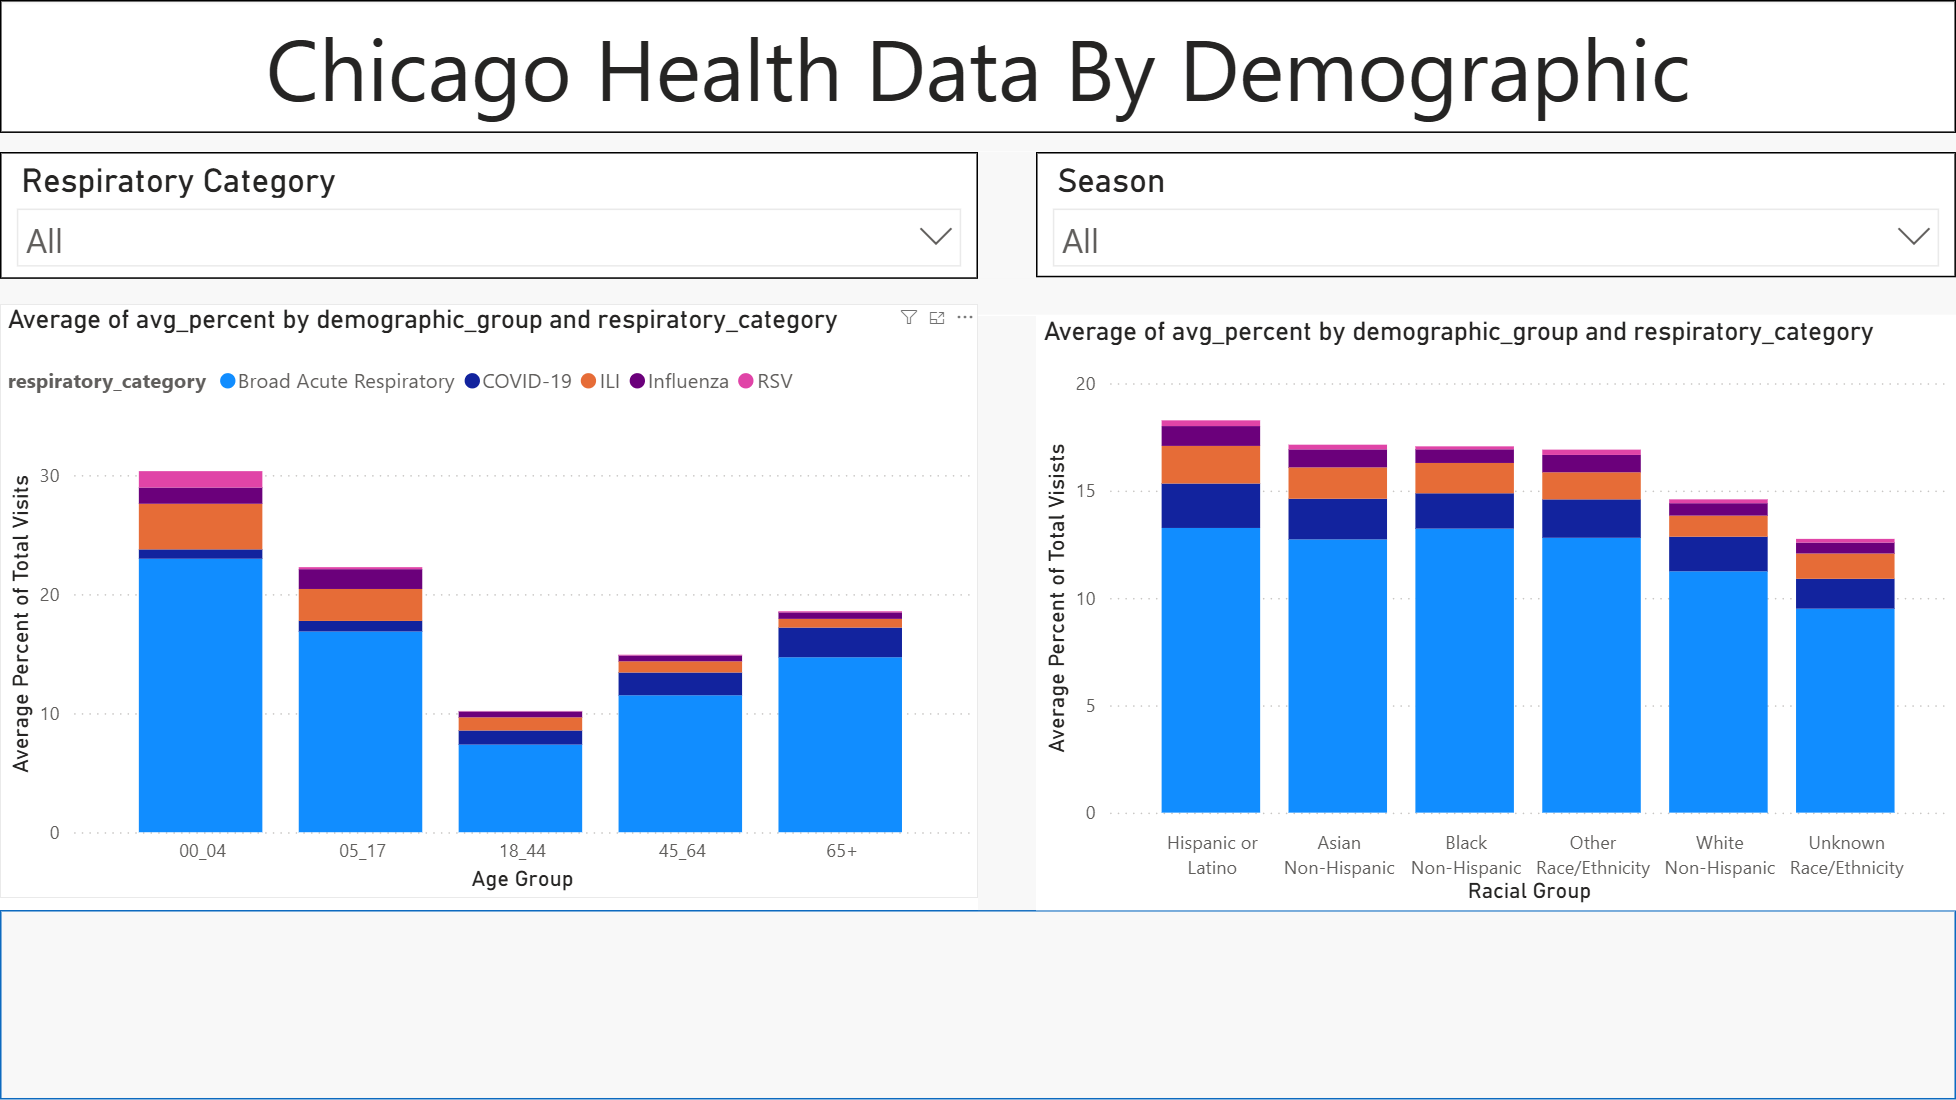

What the dashboard file says about the page in this screenshot:
{"tool":"powerbi","page":{"name":"Demograph Trends","canvas":[1280,720],"ordinal":1},"visuals":[{"type":"textbox","box":[0,0,1280,87.3],"z":0},{"type":"shape","box":[0,595.6,1280,124],"z":1},{"type":"shape","box":[0,182.2,1280,24.5],"z":2},{"type":"shape","box":[0,87.3,1280,12.2],"z":3},{"type":"shape","box":[640,206.7,38.3,388.9],"z":4},{"type":"shape","box":[640,99.5,38.3,82.7],"z":5},{"type":"slicer","fields":{"Values":["DimRespiratoryCategory.respiratory_category"]},"box":[0,99.5,640,82.7],"z":6},{"type":"columnChart","fields":{"Y":["Avg(Chicago Health Age.avg_percent)"],"Series":["Chicago Health Age.respiratory_category"],"Category":["Chicago Health Age.demographic_group"]},"box":[0,198.9,640,389],"z":7},{"type":"columnChart","fields":{"Y":["Avg(Chicago Health Race.avg_percent)"],"Category":["Chicago Health Race.demographic_group"],"Series":["Chicago Health Race.respiratory_category"]},"box":[678,207,602,389],"z":8},{"type":"slicer","fields":{"Values":["DimSeason.season"]},"box":[678,99.5,602,82.5],"z":9}]}

Visuals, with their boxes in screenshot pixels (x1, y1, x2, y2), scaled from the page's 1280x720 canvas onto the 1956x1100 screenshot:
textbox: 0:0:1955:133
shape: 0:910:1955:1099
shape: 0:278:1955:316
shape: 0:133:1955:152
shape: 978:316:1037:910
shape: 978:152:1037:278
slicer - DimRespiratoryCategory.respiratory_category: 0:152:978:278
columnChart - Avg(Chicago Health Age.avg_percent) x Chicago Health Age.respiratory_category: 0:304:978:898
columnChart - Avg(Chicago Health Race.avg_percent) x Chicago Health Race.demographic_group: 1036:316:1955:911
slicer - DimSeason.season: 1036:152:1955:278
